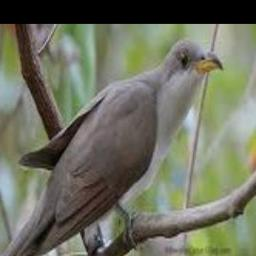Cuckoo: (0, 37, 222, 256)
